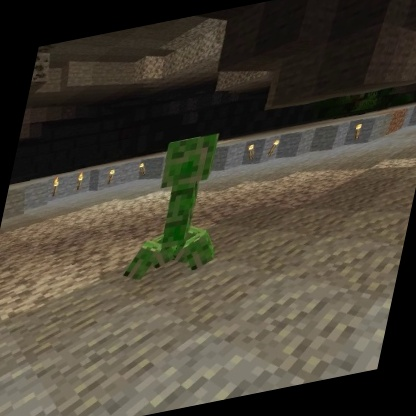creeper: (116, 122, 247, 289)
